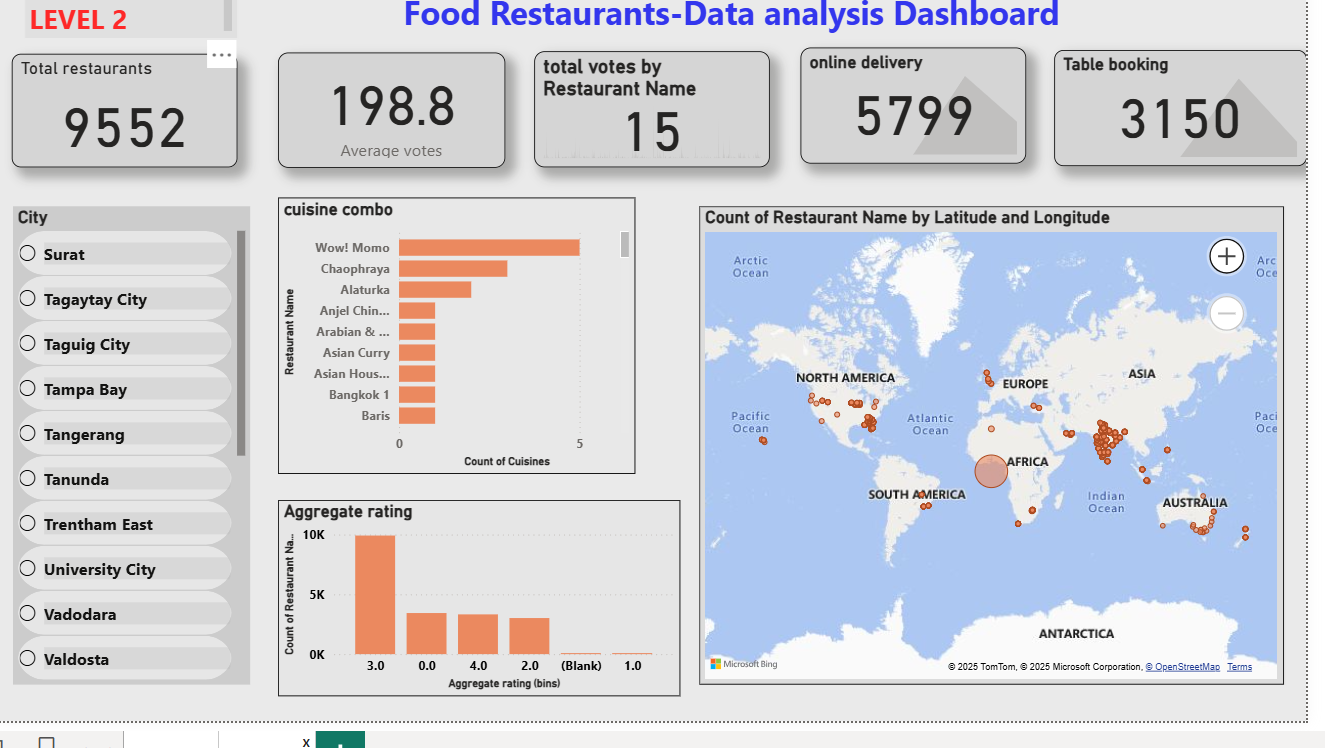

The dashboard page shown, as its layout file describes it:
{"tool":"powerbi","page":{"name":"Page 2","canvas":[1280,720],"ordinal":1},"visuals":[{"type":"textbox","box":[156.4,0,1112.9,52.1],"z":0},{"type":"card","title":"Total restaurants","fields":{"Values":["food.Total Restaurants"]},"box":[13.7,67.2,220.9,111.1],"z":1000},{"type":"card","fields":{"Values":["food.Average votes"]},"box":[274.4,65.9,222.3,112.5],"z":2000},{"type":"kpi","fields":{"Indicator":["food.total votes"],"TrendLine":["food.Restaurant Name"]},"box":[524.2,64.5,230.5,113.9],"z":3000},{"type":"kpi","title":" Table booking","fields":{"Indicator":["food.% restaurants"],"TrendLine":["food.Has Table booking"]},"box":[1033.3,63.1,247,113.9],"z":4000},{"type":"kpi","title":"online delivery","fields":{"Indicator":["food.% restaurants"],"TrendLine":["food.Has Online delivery"]},"box":[784.9,61.7,220.9,113.9],"z":5000},{"type":"textbox","box":[26.1,9.6,208.6,42.5],"z":6000},{"type":"clusteredBarChart","title":"cuisine combo","fields":{"Category":["food.Restaurant Name"],"Y":["CountNonNull(food.Cuisines)"]},"box":[273.9,207.9,349.7,270.2],"z":7000},{"type":"map","fields":{"Y":["food.Latitude"],"X":["food.Longitude"],"Size":["CountNonNull(food.Restaurant Name)"]},"box":[686,216.4,572.3,468.3],"z":8000},{"type":"columnChart","title":"Aggregate rating","fields":{"Y":["CountNonNull(food.Restaurant Name)"],"Category":["food.Aggregate rating (bins)"]},"box":[273.9,503.8,393.8,192],"z":9000},{"type":"listSlicer","fields":{"Values":["food.City"]},"box":[14.7,216.4,232.3,468.3],"z":10000}]}

Visuals, with their boxes in screenshot pixels (x1, y1, x2, y2):
textbox: (x1=156, y1=0, x2=1292, y2=36)
"Total restaurants" card: (x1=11, y1=51, x2=236, y2=165)
card - food.Average votes: (x1=277, y1=50, x2=504, y2=165)
kpi - food.total votes x food.Restaurant Name: (x1=532, y1=49, x2=767, y2=165)
" Table booking" kpi: (x1=1051, y1=47, x2=1304, y2=163)
"online delivery" kpi: (x1=798, y1=46, x2=1023, y2=162)
textbox: (x1=23, y1=0, x2=236, y2=36)
"cuisine combo" clusteredBarChart: (x1=276, y1=195, x2=633, y2=471)
map - food.Latitude x food.Longitude: (x1=697, y1=204, x2=1281, y2=682)
"Aggregate rating" columnChart: (x1=276, y1=497, x2=678, y2=693)
listSlicer - food.City: (x1=12, y1=204, x2=249, y2=682)
